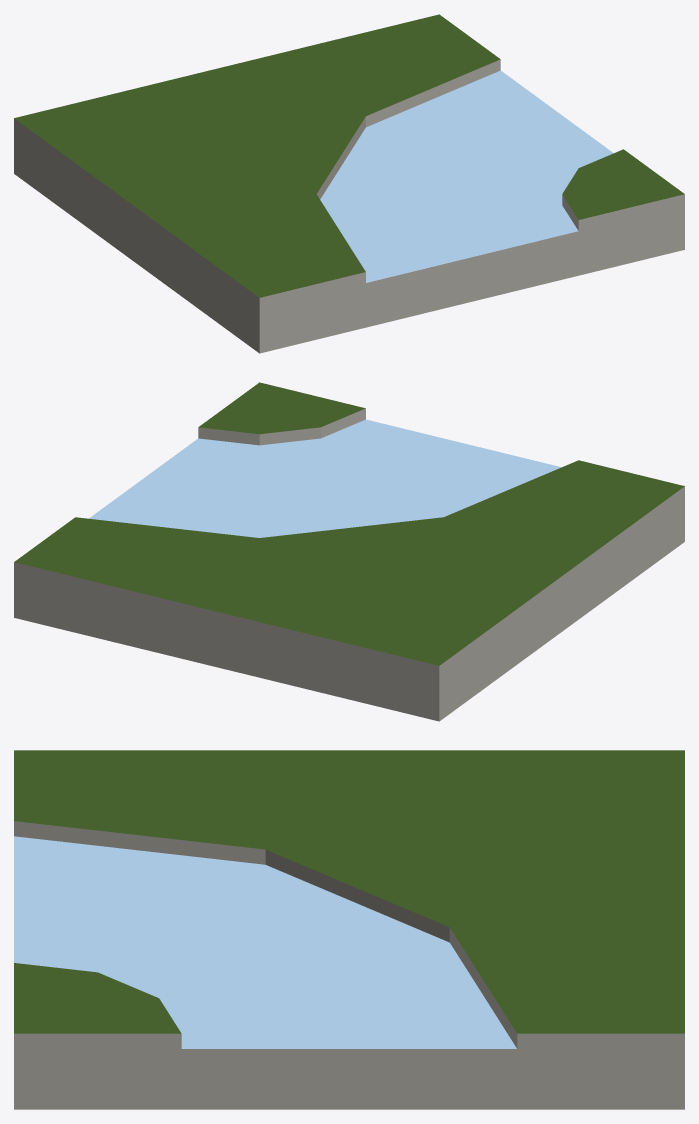
Rendered from Terrain_Tile_Grass_Rock_River_Bend_01.fbx.
3 views of the same model, one above another, from view 1: azimuth 30°, elevation 25°; view 2: azimuth 150°, elevation 25°; view 3: azimuth 270°, elevation 25° (orthographic). The views are drawn at different scales.
Visible parts, largest first — view 1: Model; view 2: Model; view 3: Model.
Boxes of the visible parts, <box> form: Model: <box>14,14,684,353</box>; Model: <box>14,382,684,721</box>; Model: <box>14,750,684,1109</box>.
Bounding box in the file's own units: 2000 × 250 × 2000.
